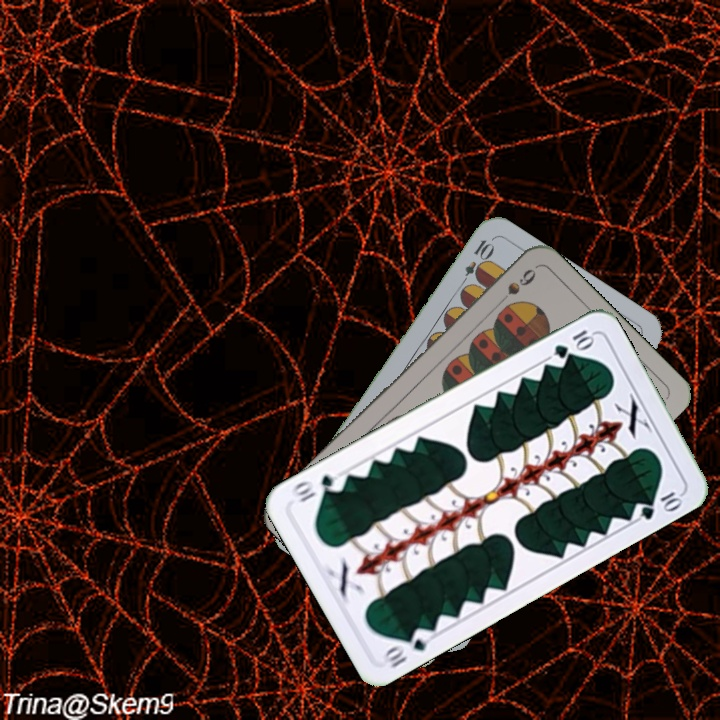E10: (455, 235, 495, 291)
G10: (380, 624, 436, 671), (550, 325, 597, 361)
S9: (491, 264, 538, 310)
